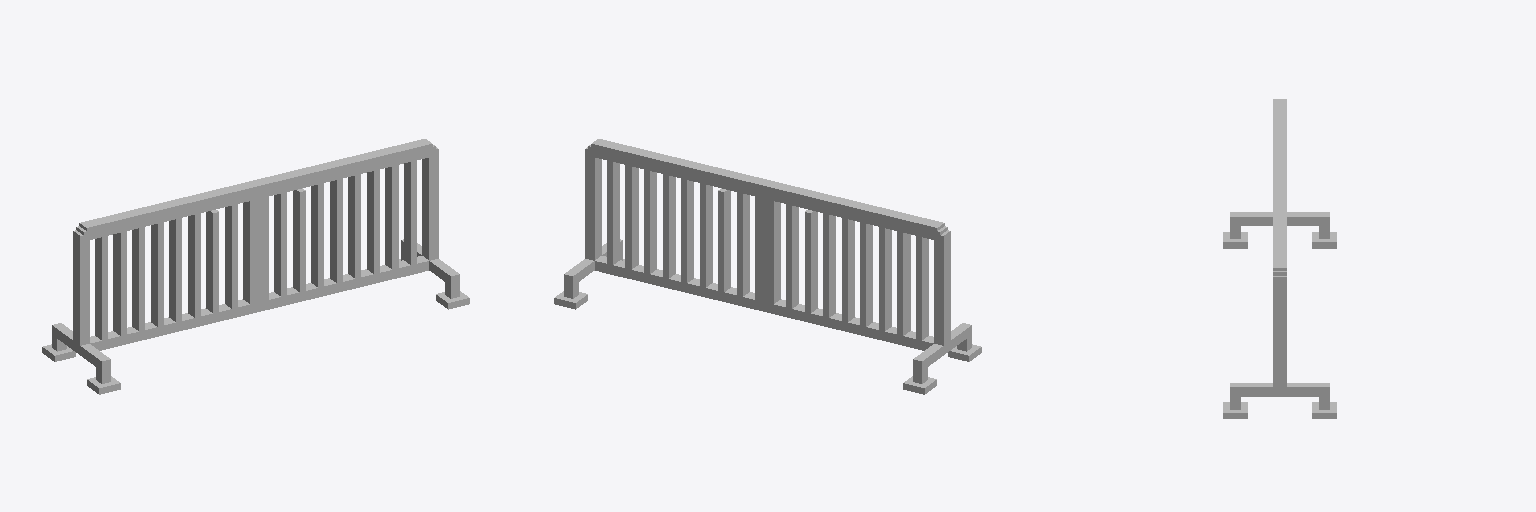
The model's file is Fence.obj.
3 renders of one model, left to right at view 1: azimuth 30°, elevation 25°; view 2: azimuth 150°, elevation 25°; view 3: azimuth 270°, elevation 25°, orthographic.
Parts seen in each view (by area): view 1: object 1; view 2: object 1; view 3: object 1.
Part boxes in pixels (bbox=[...]): object 1: bbox=[42, 139, 469, 394]; object 1: bbox=[554, 139, 981, 394]; object 1: bbox=[1223, 99, 1336, 418].
Size of the model in its own units: 12 by 4.5 by 3.2.